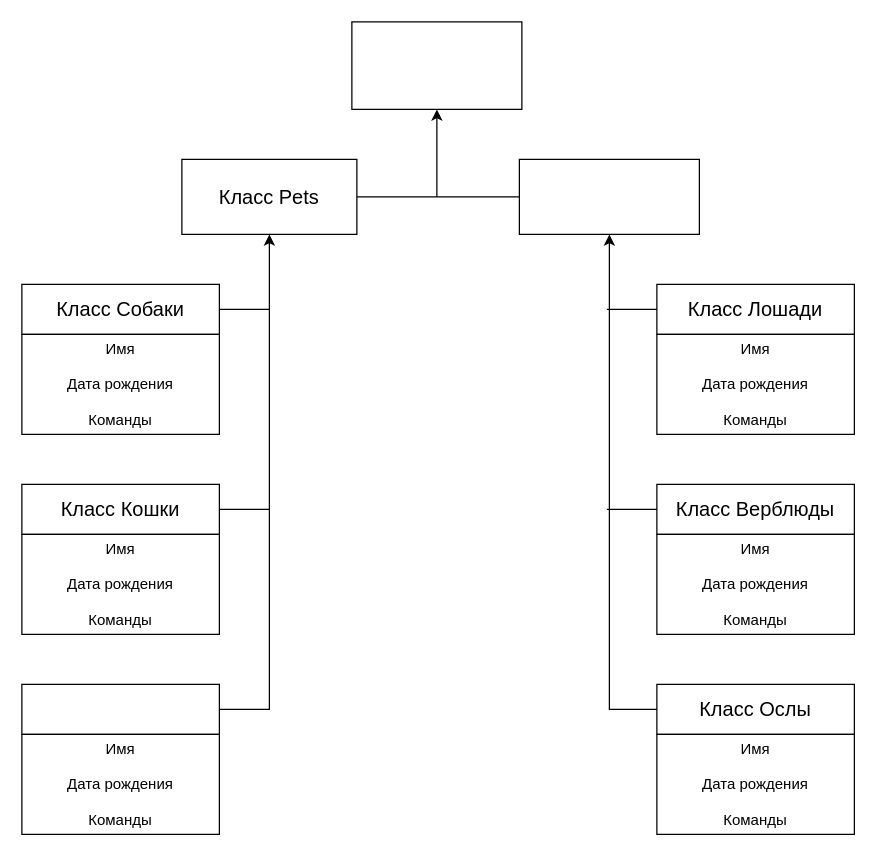
Image size: 876x856. Some labels were removed from this diagram. The shapes that lost their labels are listed below. From the top down, each one's centre as x and y in pixels, then its label:
At (x=436, y=65): "Животные (родительский класс)".
At (x=608, y=196): "Класс Pack animals".
At (x=120, y=708): "Класс Хомяки".
